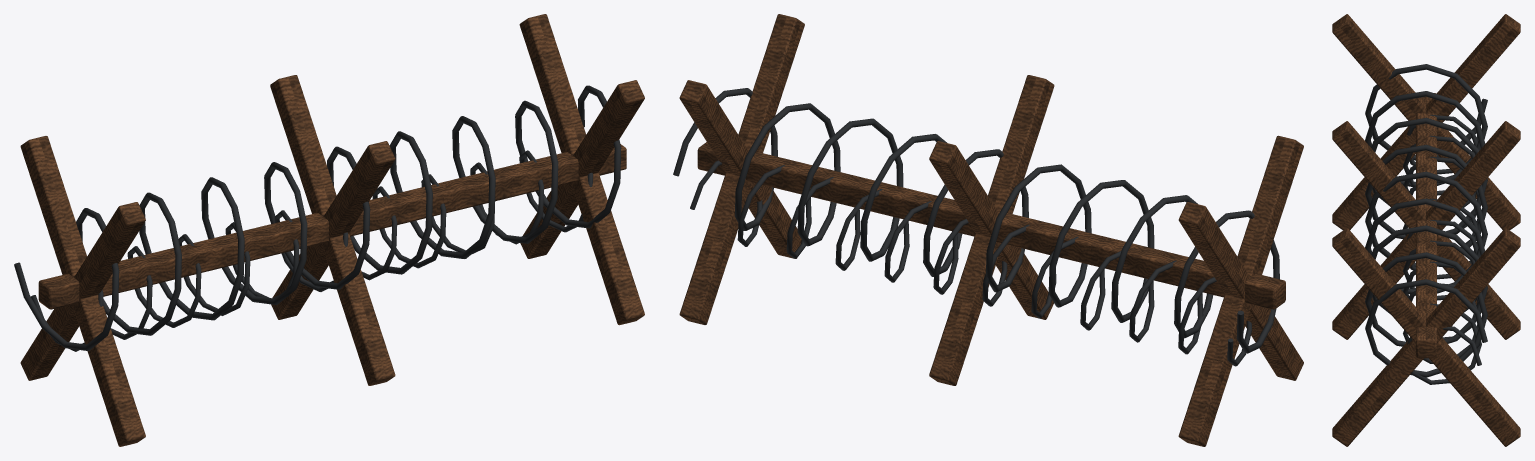
The model's file is barbed_wire.glb.
The picture shows the model from 3 angles, left to right: view 1: azimuth 30°, elevation 25°; view 2: azimuth 150°, elevation 25°; view 3: azimuth 270°, elevation 25°; orthographic projection. The views are drawn at different scales.
Visible parts, largest first — view 1: BarbedWire; view 2: BarbedWire; view 3: BarbedWire.
Boxes of the visible parts, x1,y1,x2,y2 form: BarbedWire: (14,14,644,446); BarbedWire: (673,14,1303,446); BarbedWire: (1332,14,1520,446).
Size of the model in its own units: 2.2 by 0.8765 by 0.7068.
2 materials, 1 textured.
